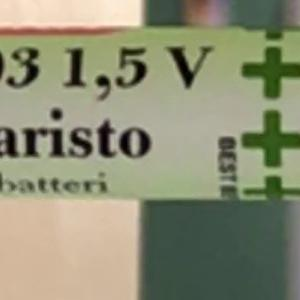keyword: (53, 36, 224, 98)
